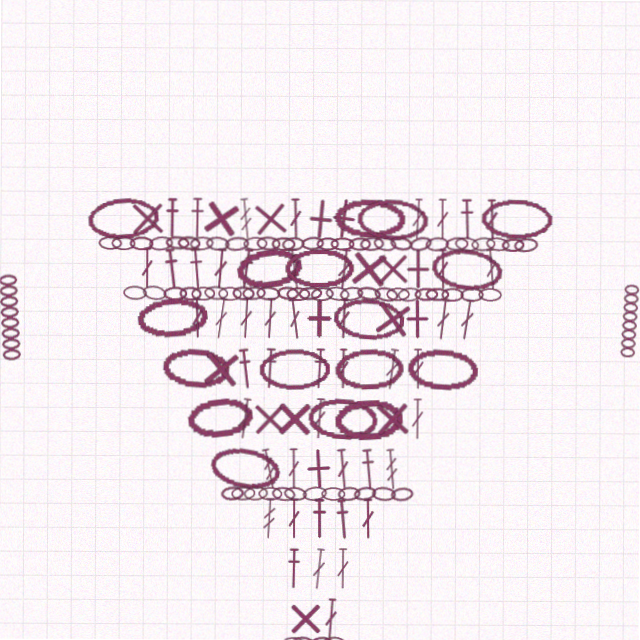chain: (208, 443, 283, 495), (429, 244, 505, 293), (233, 244, 306, 294), (185, 394, 257, 443), (135, 295, 209, 342), (86, 196, 159, 242), (307, 396, 380, 441), (406, 346, 479, 391), (332, 296, 405, 341), (161, 346, 232, 392), (356, 197, 429, 241), (333, 397, 404, 441), (333, 197, 405, 240), (480, 197, 552, 240), (334, 347, 404, 390), (259, 348, 330, 390), (284, 248, 355, 289), (408, 234, 433, 253), (373, 285, 399, 303), (303, 485, 328, 502), (142, 285, 167, 302), (325, 285, 350, 302), (339, 285, 364, 302), (356, 285, 381, 302), (372, 235, 397, 252), (454, 235, 479, 252), (485, 235, 510, 252), (354, 485, 378, 502), (389, 235, 413, 252), (272, 486, 297, 502), (397, 286, 422, 302), (148, 236, 173, 252), (189, 236, 214, 252), (205, 236, 230, 252), (224, 236, 249, 252), (513, 236, 538, 252), (284, 486, 308, 502), (391, 486, 415, 502), (310, 286, 334, 302), (281, 236, 305, 252), (244, 486, 269, 501), (372, 486, 397, 501), (359, 236, 384, 251), (221, 486, 245, 501), (232, 486, 256, 501), (338, 486, 362, 501), (123, 286, 147, 301), (204, 286, 228, 301), (242, 286, 266, 301), (256, 286, 280, 301), (276, 286, 300, 301), (298, 286, 322, 301), (165, 236, 189, 251), (256, 236, 280, 251), (425, 236, 449, 251), (471, 236, 495, 251), (232, 286, 255, 301), (177, 236, 200, 251), (301, 236, 324, 251), (445, 236, 468, 251), (259, 487, 283, 501), (322, 487, 346, 501), (163, 287, 187, 301), (191, 287, 215, 301), (218, 287, 242, 301), (286, 287, 310, 301), (386, 287, 410, 301), (414, 287, 438, 301), (425, 287, 449, 301), (460, 287, 484, 301), (478, 287, 502, 301), (98, 237, 122, 251), (111, 237, 135, 251), (129, 237, 153, 251), (243, 237, 267, 251), (271, 237, 295, 251), (330, 237, 354, 251), (179, 287, 202, 301), (441, 287, 464, 301), (316, 237, 339, 251), (348, 237, 371, 251), (501, 237, 524, 251), (292, 636, 317, 640), (322, 636, 347, 640), (311, 636, 335, 640), (283, 637, 307, 640)
double: (457, 298, 477, 340), (236, 398, 255, 440), (383, 348, 402, 390), (285, 248, 304, 290), (311, 548, 329, 590), (212, 298, 230, 340), (286, 298, 304, 340), (434, 298, 452, 340), (335, 248, 353, 290), (335, 448, 352, 490), (212, 248, 229, 290), (483, 248, 500, 289), (324, 598, 340, 639), (312, 398, 328, 439), (238, 298, 254, 339), (262, 298, 278, 339), (410, 198, 425, 239), (484, 198, 499, 239), (337, 548, 351, 589), (288, 498, 302, 539), (362, 498, 376, 539), (411, 398, 425, 439), (411, 348, 425, 389), (190, 298, 204, 339), (337, 298, 351, 339), (140, 248, 154, 289), (288, 198, 302, 239), (435, 198, 449, 239), (288, 448, 301, 489), (337, 348, 350, 389), (436, 248, 449, 289)
enseble_chain: (0, 275, 23, 364), (619, 283, 640, 357)
half_double: (236, 248, 256, 290), (236, 348, 255, 390), (162, 248, 181, 290), (187, 248, 206, 290), (335, 498, 353, 540), (360, 448, 378, 490), (261, 348, 279, 389), (311, 348, 328, 389), (458, 198, 475, 239), (287, 548, 303, 589), (312, 498, 328, 539), (189, 198, 205, 239), (164, 198, 179, 239)
single: (369, 295, 416, 342), (197, 195, 244, 242), (346, 246, 391, 291), (321, 196, 366, 241), (199, 347, 243, 391), (248, 197, 292, 241), (298, 197, 342, 241), (298, 447, 341, 490), (371, 397, 414, 440), (249, 398, 291, 440), (126, 198, 168, 240), (286, 598, 327, 639), (274, 398, 315, 439), (299, 298, 340, 339), (397, 298, 438, 339), (372, 248, 413, 289), (397, 248, 438, 289)
treble: (260, 448, 280, 490), (384, 448, 401, 490), (237, 198, 254, 240), (262, 498, 278, 539)
